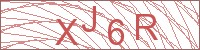6: (105, 18, 127, 48)
J: (81, 4, 98, 34)
R: (134, 12, 160, 43)
X: (54, 18, 82, 46)
